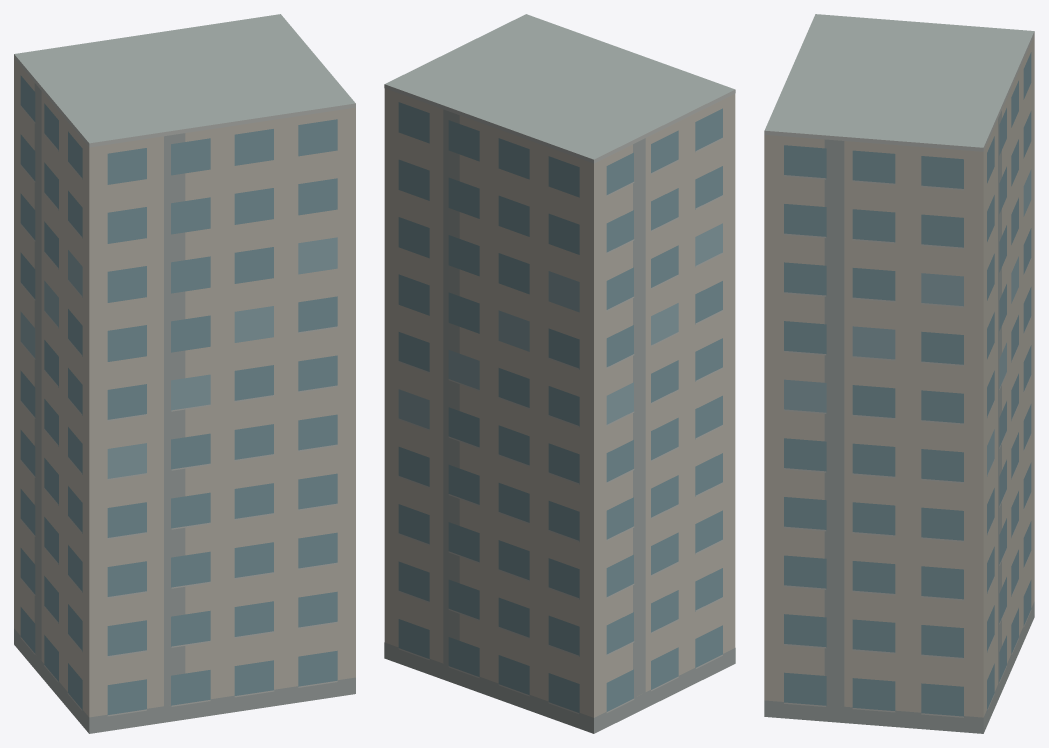
The model's file is residential-45aa5e6b-f489-4a89-aeef-aef513925b3d.glb.
3 renders of one model, left to right at view 1: azimuth 30°, elevation 25°; view 2: azimuth 150°, elevation 25°; view 3: azimuth 270°, elevation 25°, orthographic. The views are drawn at different scales.
Visible parts, largest first — view 1: residential-45aa5e6b-f489-4a89-aeef-aef513925b3d.tmp; view 2: residential-45aa5e6b-f489-4a89-aeef-aef513925b3d.tmp; view 3: residential-45aa5e6b-f489-4a89-aeef-aef513925b3d.tmp.
Part boxes in pixels (bbox=[...]): residential-45aa5e6b-f489-4a89-aeef-aef513925b3d.tmp: bbox=[14, 14, 355, 733]; residential-45aa5e6b-f489-4a89-aeef-aef513925b3d.tmp: bbox=[384, 14, 735, 733]; residential-45aa5e6b-f489-4a89-aeef-aef513925b3d.tmp: bbox=[764, 14, 1034, 733].
Bounding box in the file's own units: 17.14 × 35 × 14.63.
